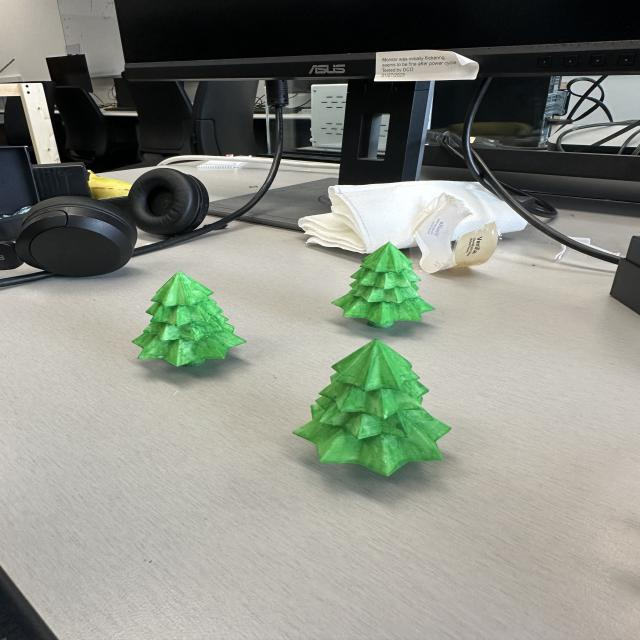tree: (288, 339, 454, 477), (133, 272, 244, 368), (332, 242, 436, 331)
